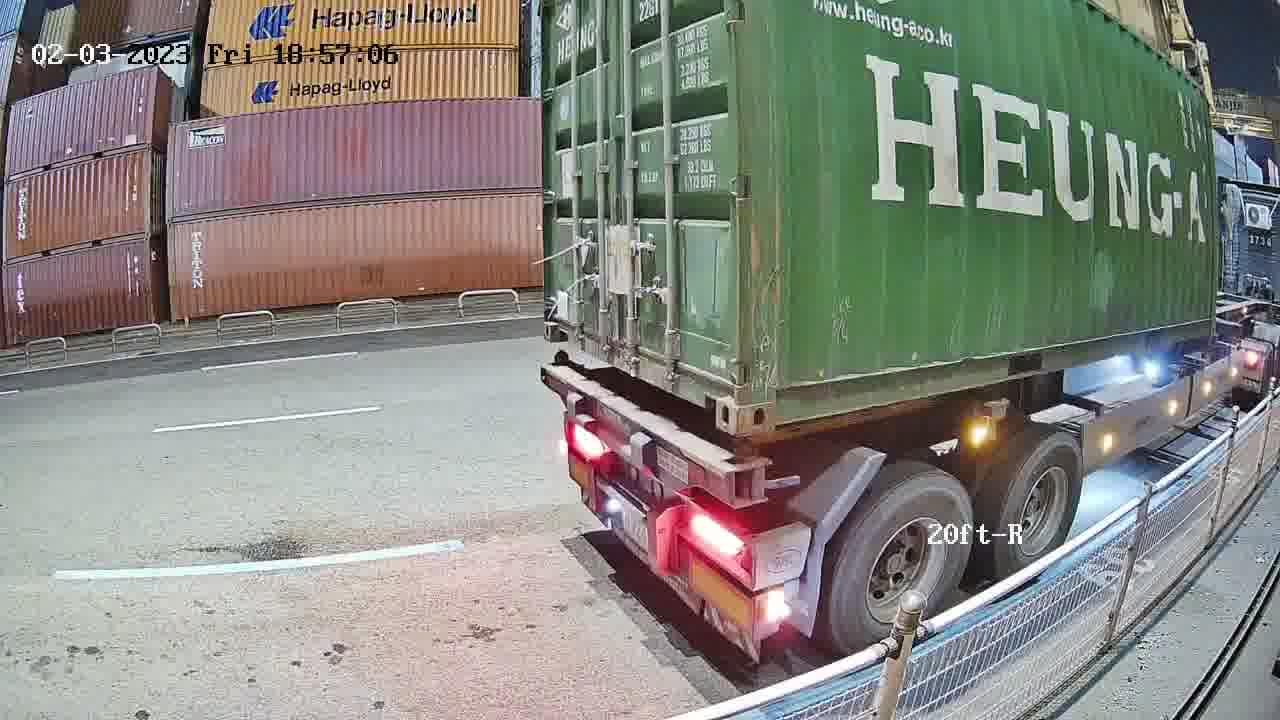Chassis: (540, 361, 769, 509)
Cone: (735, 443, 759, 506), (550, 349, 571, 368)
Hole_L: (738, 358, 806, 435), (544, 298, 579, 354)
Hole_R: (693, 352, 739, 434)
Tire: (831, 474, 975, 653), (997, 434, 1084, 581)
